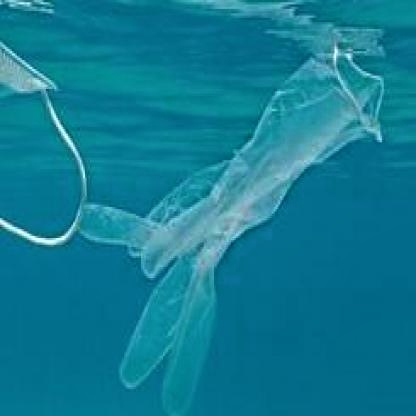glove: (80, 47, 387, 412)
